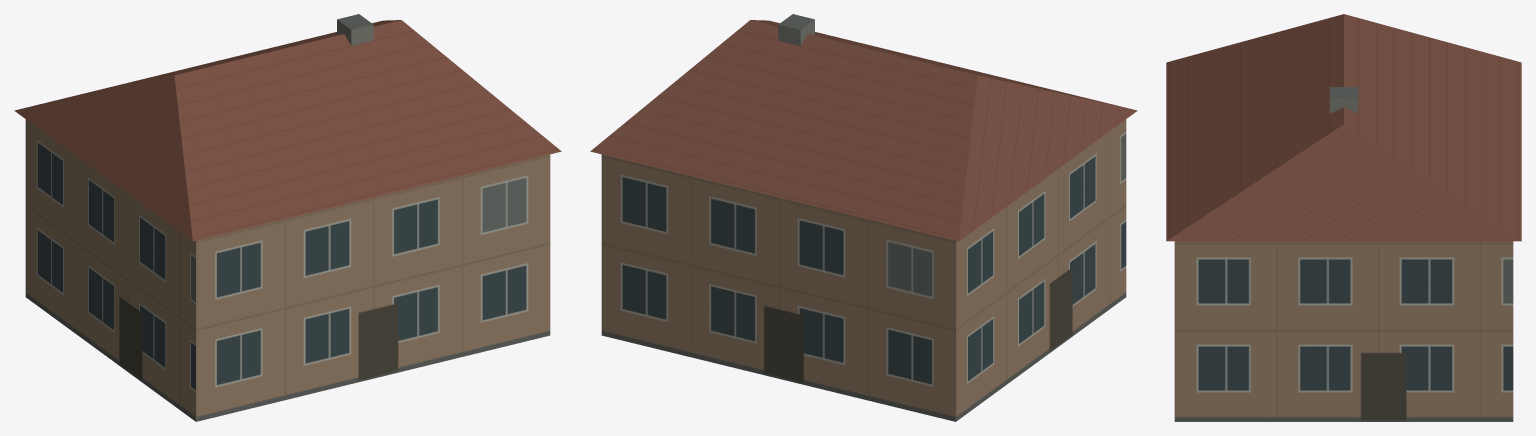
The model's file is kyiv_private_02.obj.
3 renders of one model, left to right at view 1: azimuth 30°, elevation 25°; view 2: azimuth 150°, elevation 25°; view 3: azimuth 270°, elevation 25°, orthographic.
Parts seen in each view (by area): view 1: kyiv_private_02; view 2: kyiv_private_02; view 3: kyiv_private_02.
Boxes of the visible parts, x1,y1,x2,y2 form: kyiv_private_02: (14, 14, 561, 421); kyiv_private_02: (590, 14, 1137, 421); kyiv_private_02: (1166, 14, 1521, 421).
Bounding box in the file's own units: 12.5 × 9 × 10.5.
Materials: 1 (1 with a texture image).
